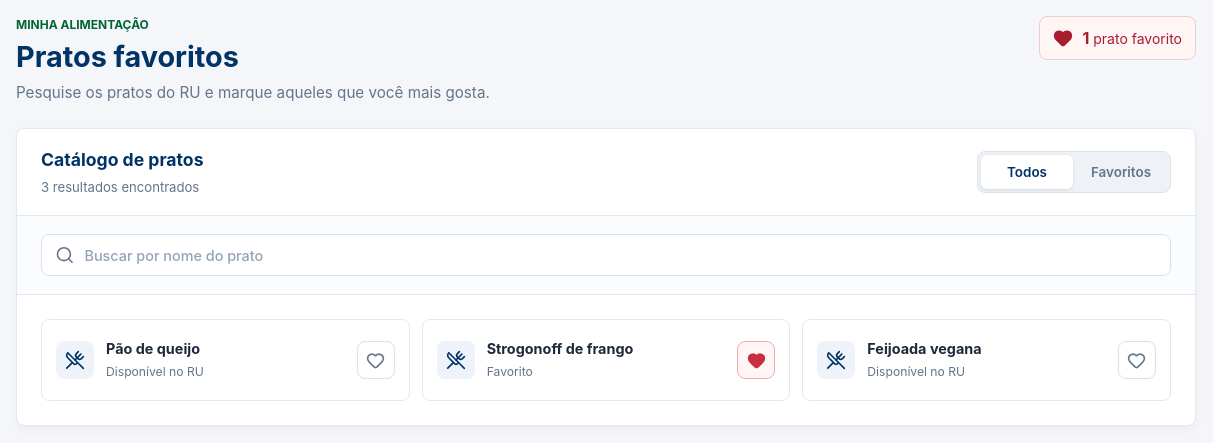
FavoritosClient › filtra somente os pratos favoritos
What coordinates should you click on to do the following:
click the button "Favoritos"
I would click on:
 (1121, 172)
Its box is left=1075, top=155, right=1167, bottom=190.
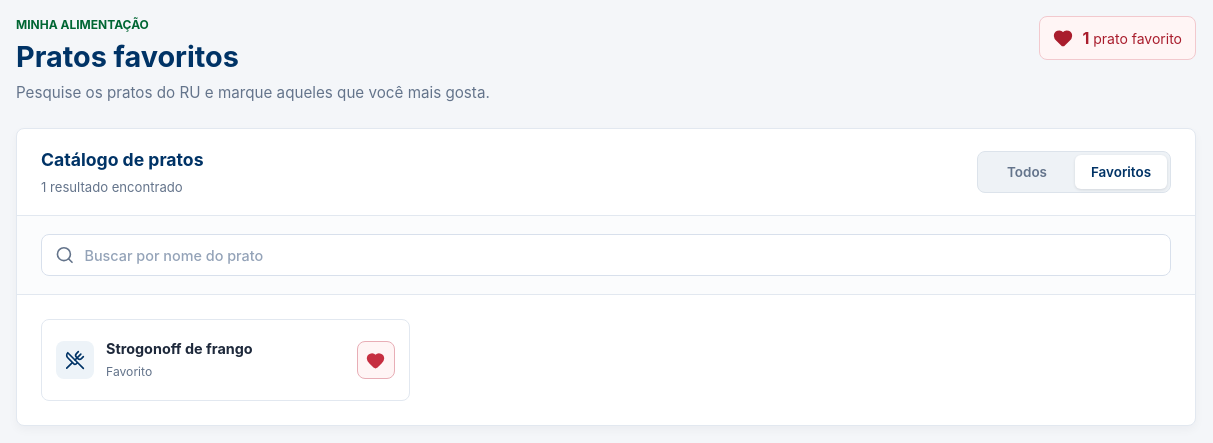
Expected: the heading "Strogonoff de frango" is shown, left=106, top=340, right=253, bottom=357
Expected: the heading "Pão de queijo" is gone
